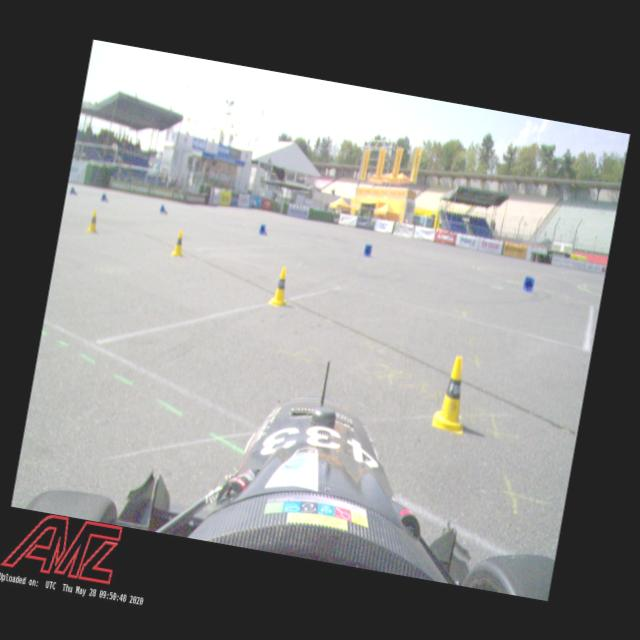blue_cone: (256, 223, 269, 237), (158, 203, 169, 214), (68, 186, 78, 197), (99, 192, 110, 202)
yellow_cone: (428, 349, 476, 436), (267, 264, 293, 308), (170, 228, 188, 258), (86, 208, 100, 234)
